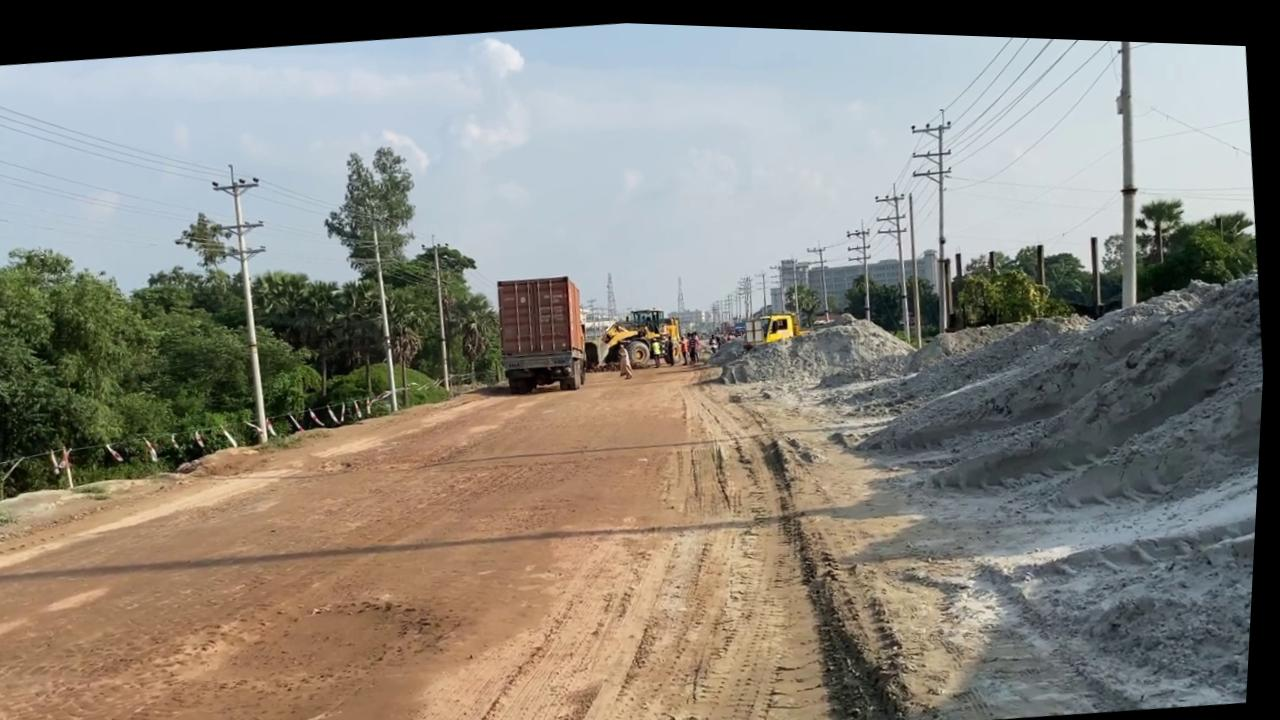Garbage: (812, 245, 1271, 720)
Pole: (214, 176, 303, 448), (1096, 32, 1171, 297), (901, 119, 971, 334), (385, 225, 430, 417), (442, 243, 475, 396)
Traffic-sign: (328, 151, 456, 423)
Tree: (490, 265, 583, 382), (621, 308, 697, 375), (598, 318, 671, 376), (746, 313, 812, 356)
